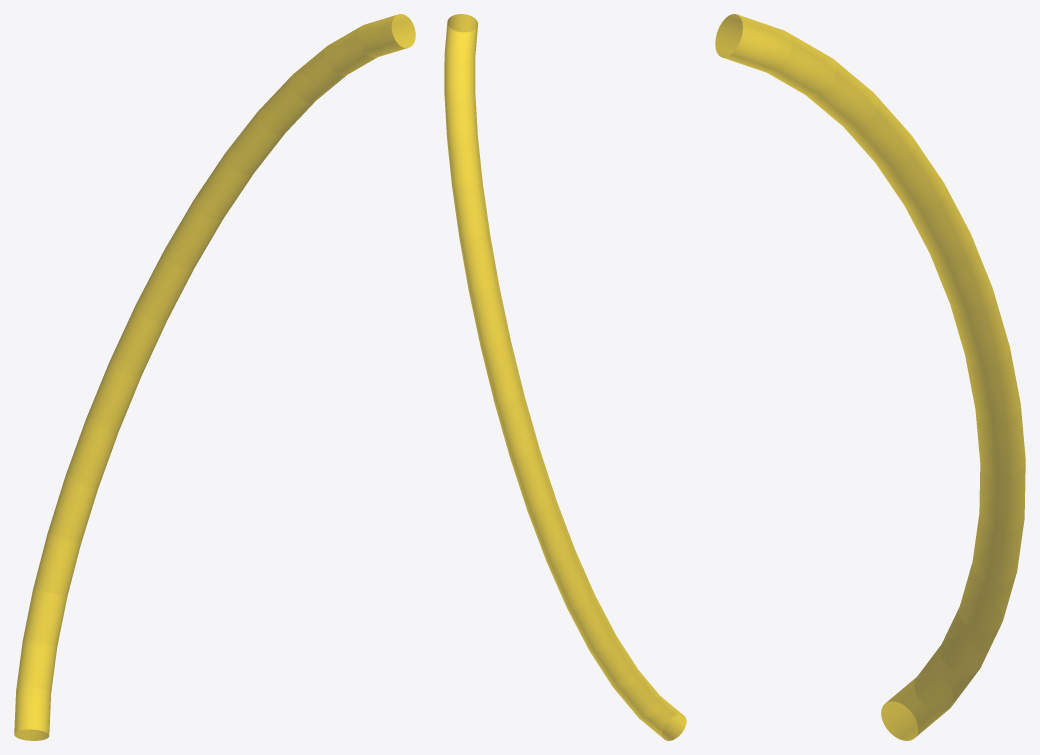
The model's file is Event_84804159_track_74.fbx.
3 views of the same model, side by side, from view 1: azimuth 30°, elevation 25°; view 2: azimuth 150°, elevation 25°; view 3: azimuth 270°, elevation 25° (orthographic). The views are drawn at different scales.
Parts seen in each view (by area): view 1: Model; view 2: Model; view 3: Model.
Part boxes in pixels (x1=…): Model: x1=14, y1=14, x2=415, y2=740; Model: x1=444, y1=14, x2=686, y2=740; Model: x1=715, y1=14, x2=1025, y2=740.
Size of the model in its own units: 0.4389 by 0.8816 by 0.2721.
